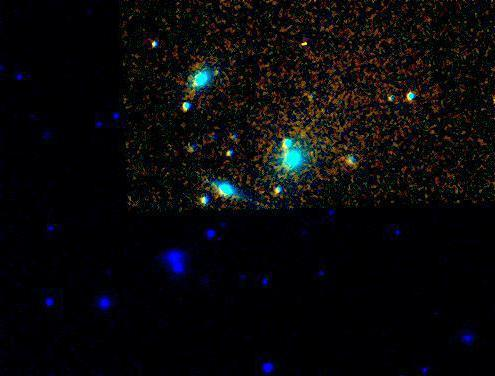star: (203, 57, 233, 87)
